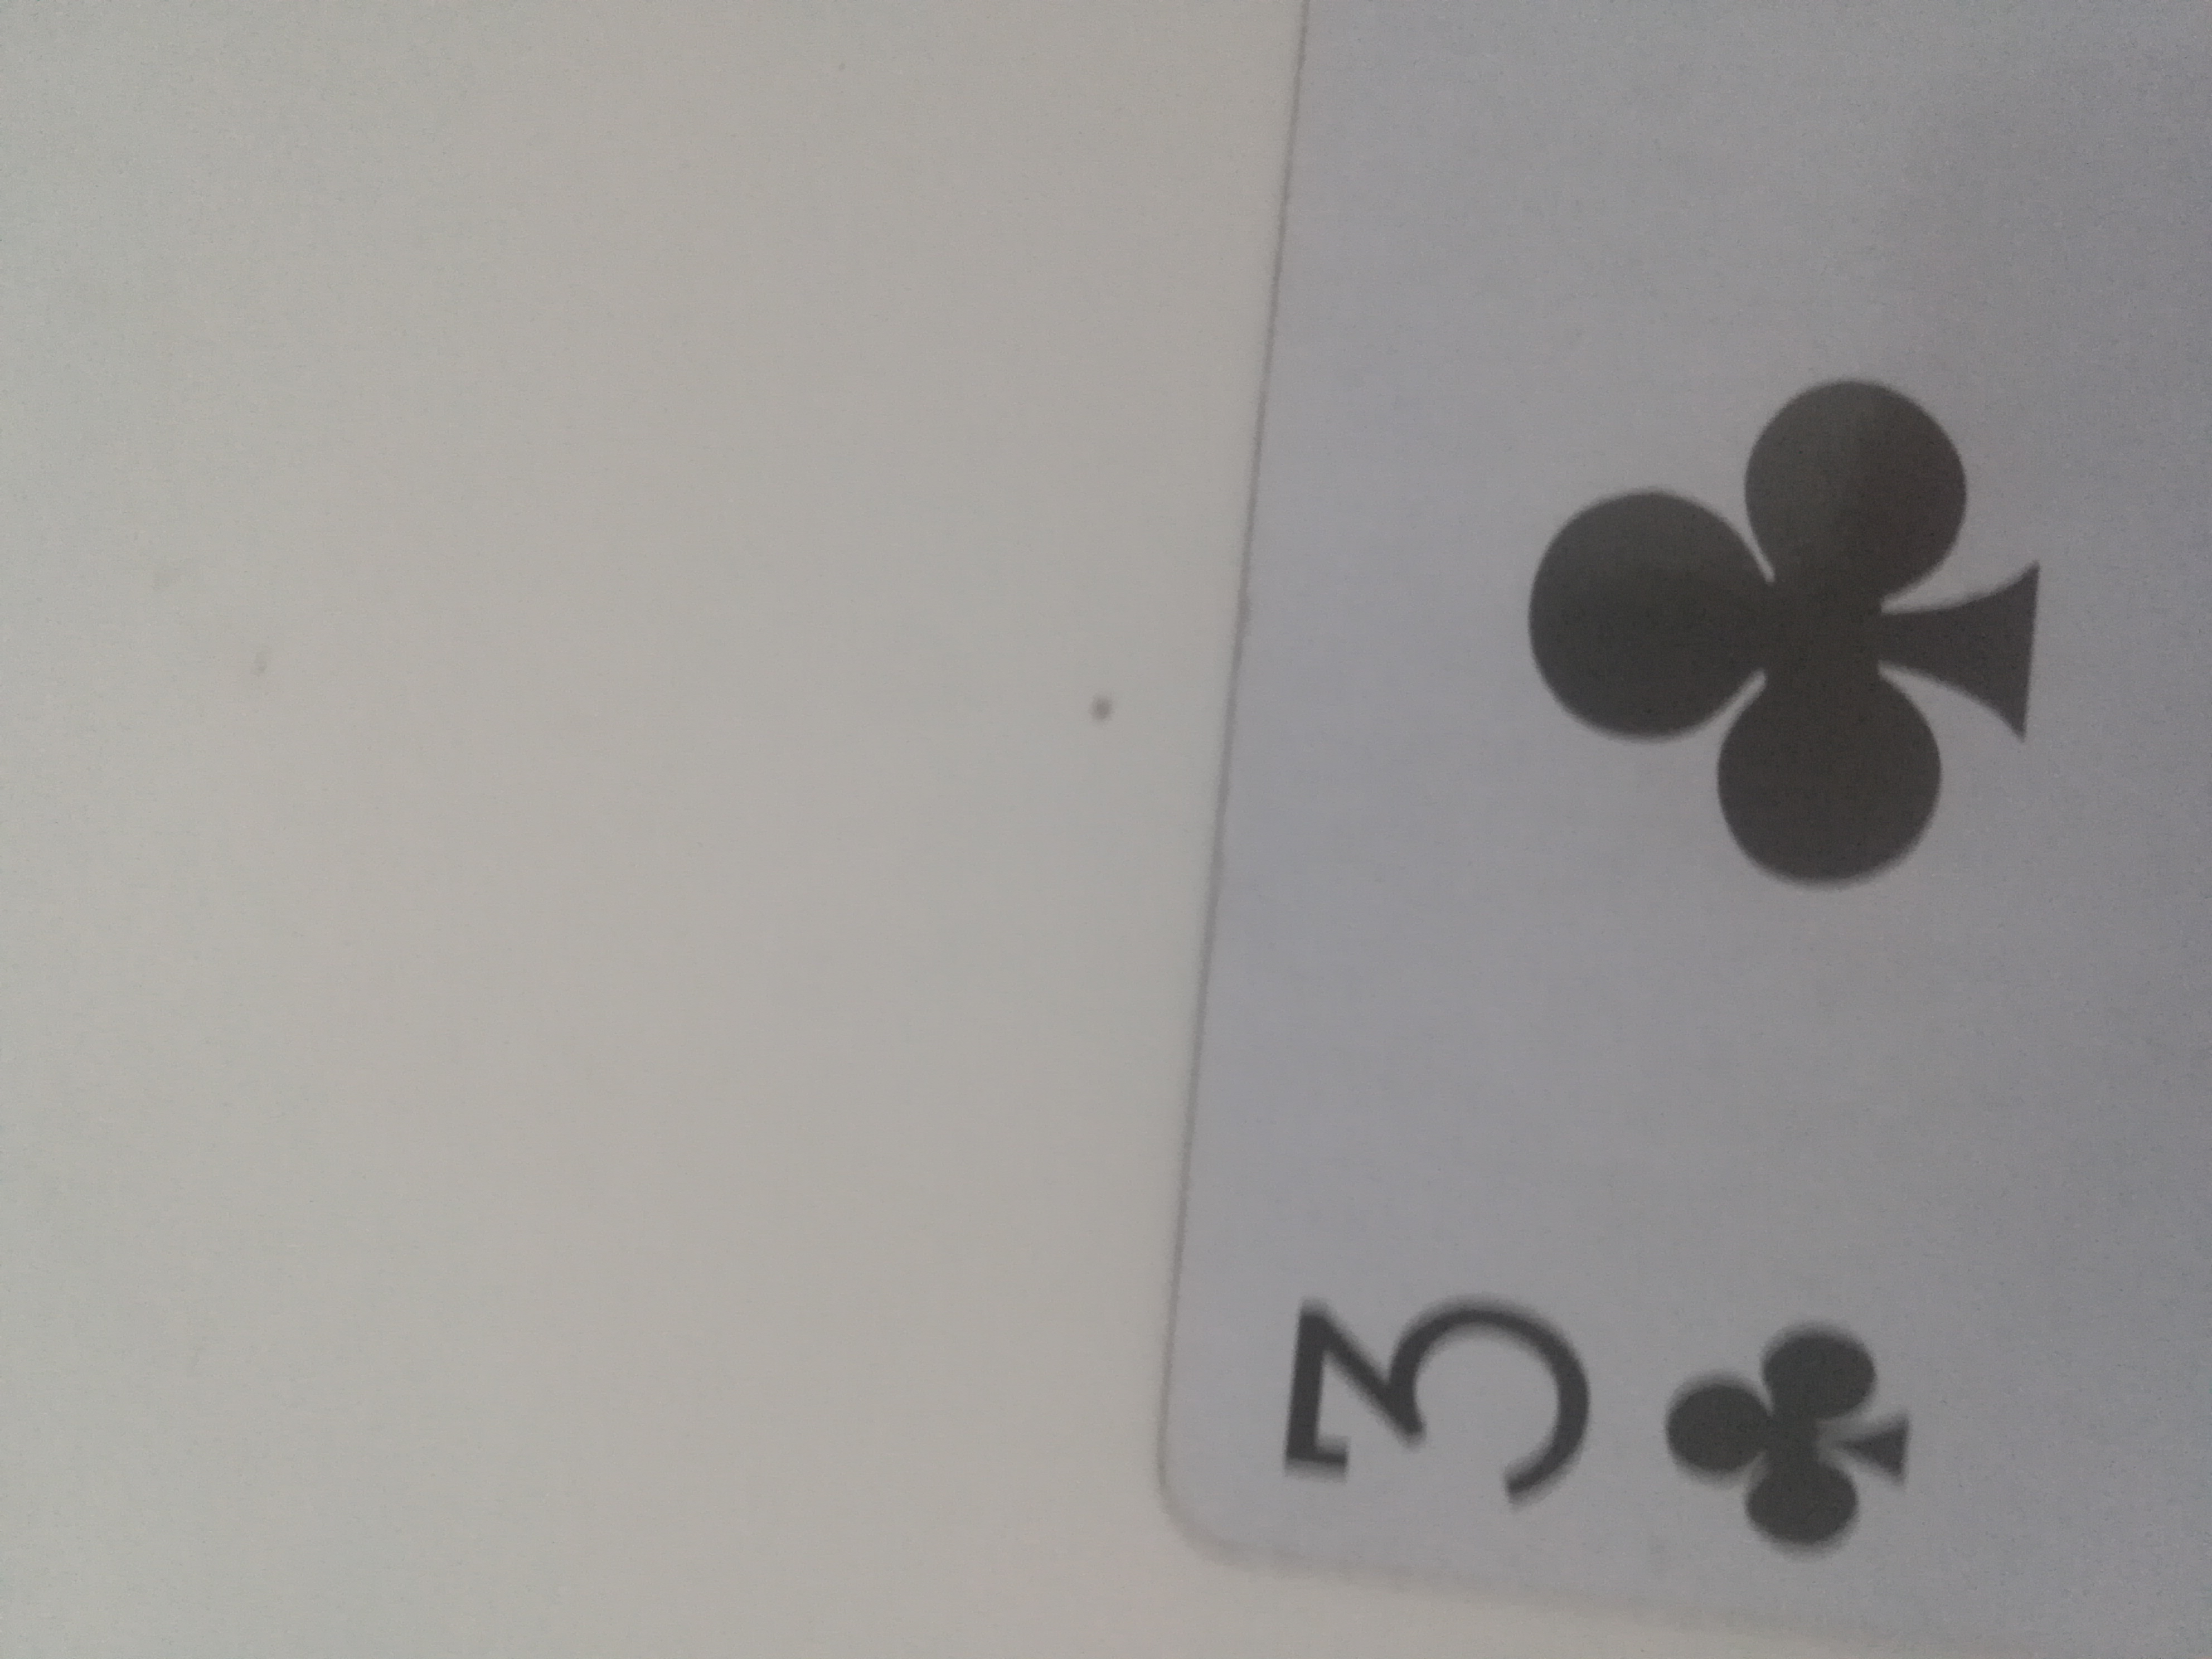3C: (1150, 10, 2212, 1656)
